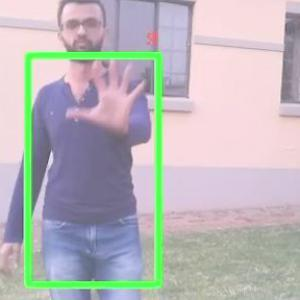follow_hand: (65, 52, 150, 137)
